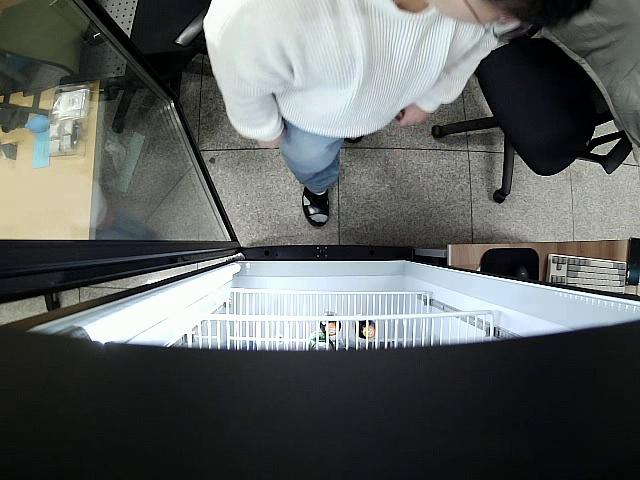00_hand: (394, 105, 427, 128)
